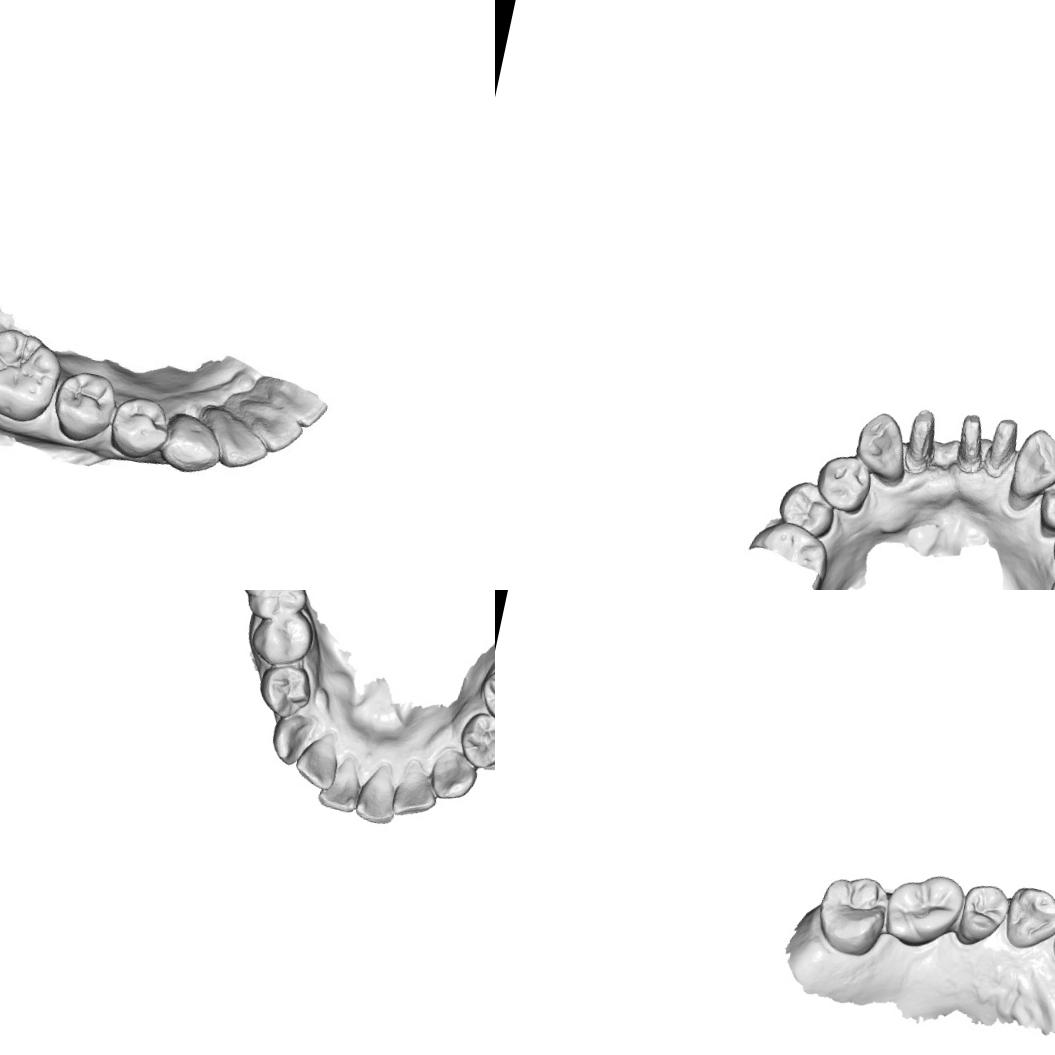canine: (846, 406, 918, 486), (156, 407, 228, 480), (996, 881, 1055, 958), (1004, 423, 1055, 512), (426, 744, 482, 804), (266, 708, 318, 770)
crown: (898, 403, 948, 474), (948, 410, 994, 476), (980, 413, 1024, 479)
incisor: (233, 390, 310, 460), (199, 403, 273, 473), (257, 374, 331, 432), (390, 755, 444, 824), (315, 749, 369, 815), (353, 758, 404, 826), (290, 730, 344, 793)
molar: (878, 863, 968, 956), (810, 867, 895, 962), (0, 322, 66, 427), (236, 590, 315, 625)
premolar: (53, 368, 119, 446), (770, 475, 844, 543), (246, 602, 320, 670), (107, 393, 169, 466), (952, 879, 1012, 953), (812, 450, 877, 518), (252, 659, 318, 721), (454, 708, 495, 775), (1032, 469, 1055, 545), (475, 658, 495, 728)
